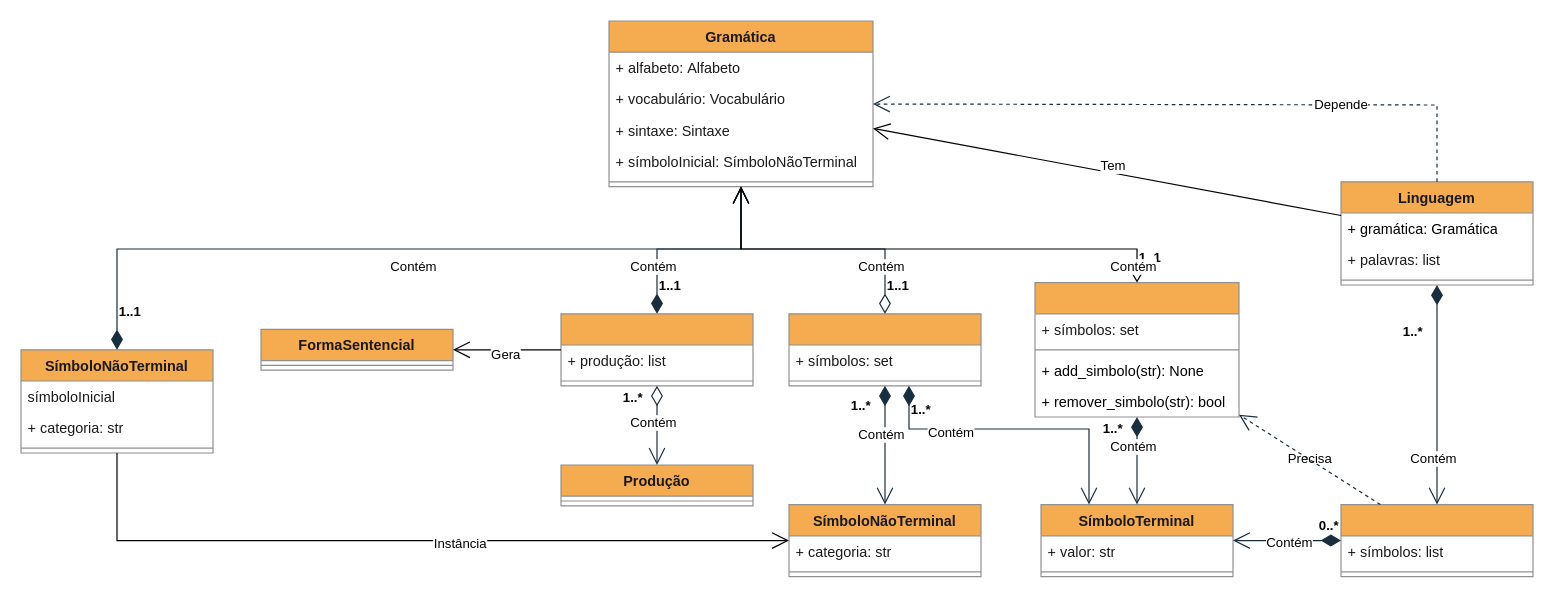
This 1554x598 diagram has some shape labels left out. Each missing label, with the box of its shape:
Alfabeto: (1034, 281, 1239, 417)
Palavra: (1340, 503, 1533, 577)
Sintaxe: (560, 313, 753, 386)
Vocabulário: (788, 313, 981, 386)
